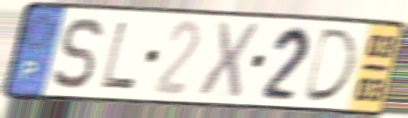2: (254, 22, 316, 106), (150, 18, 204, 98)
D: (299, 26, 362, 104)
L: (98, 19, 138, 92)
S: (49, 15, 105, 92)
X: (194, 18, 262, 100)
